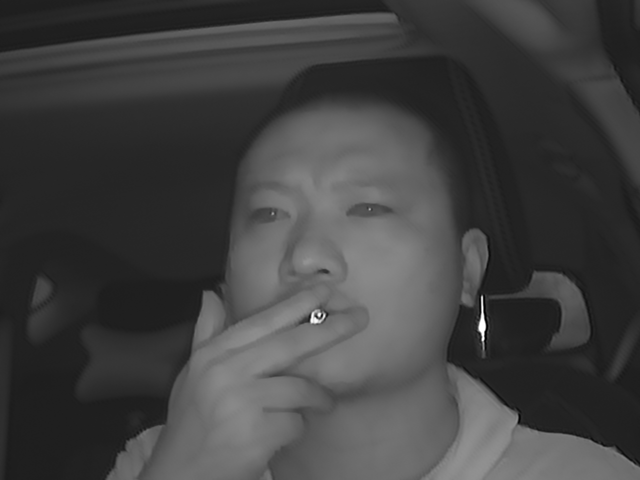hand: (218, 282, 371, 446)
